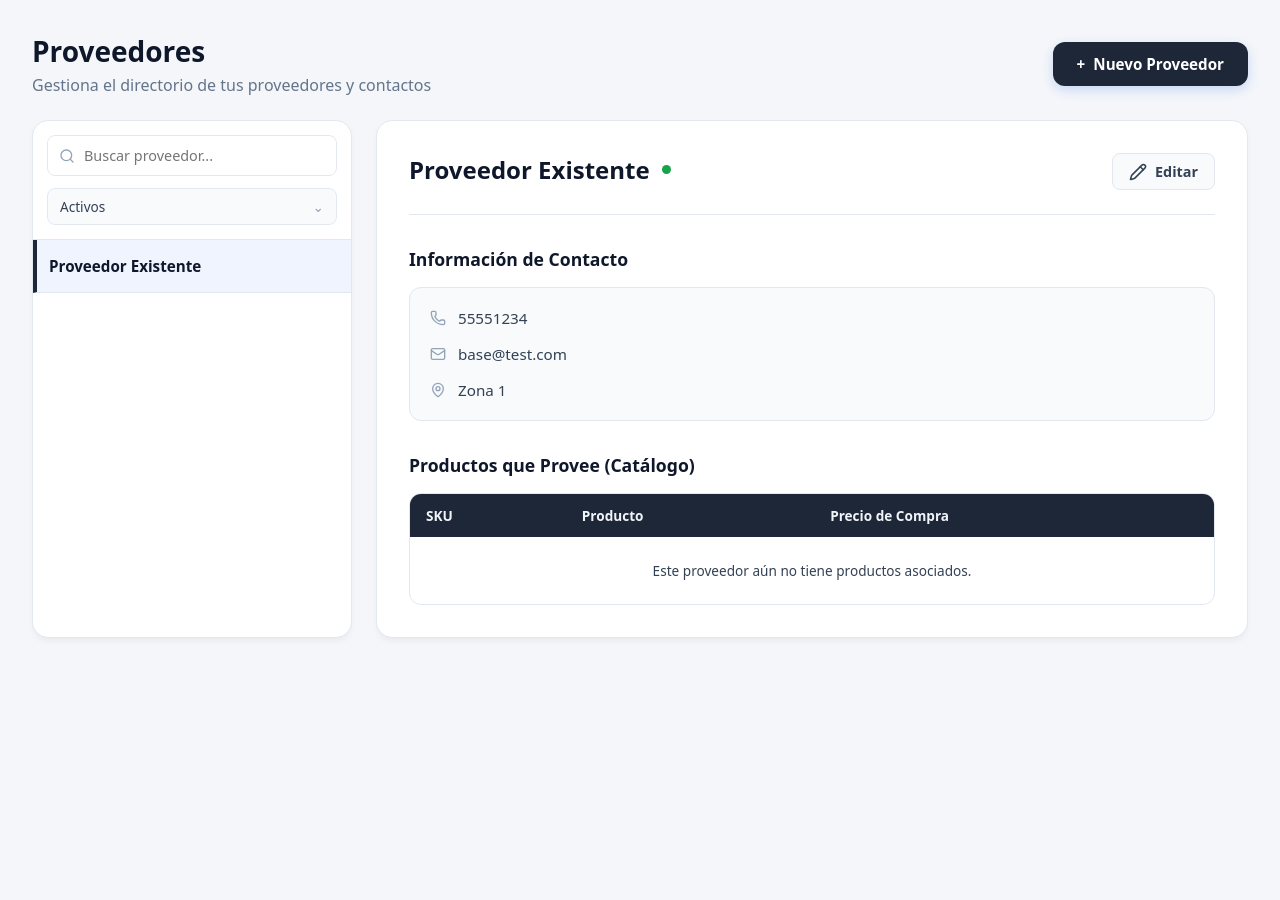
Test: Flujo comercial completo: Proveedores › creación: registra un proveedor nuevo y lo deja seleccionado en el detalle
Check: the heading with class "detail-name" reads "Proveedor Existente", box [409, 153, 650, 186]
Click the button with class "btn-add" at point(1150, 64), box [1053, 42, 1248, 86]
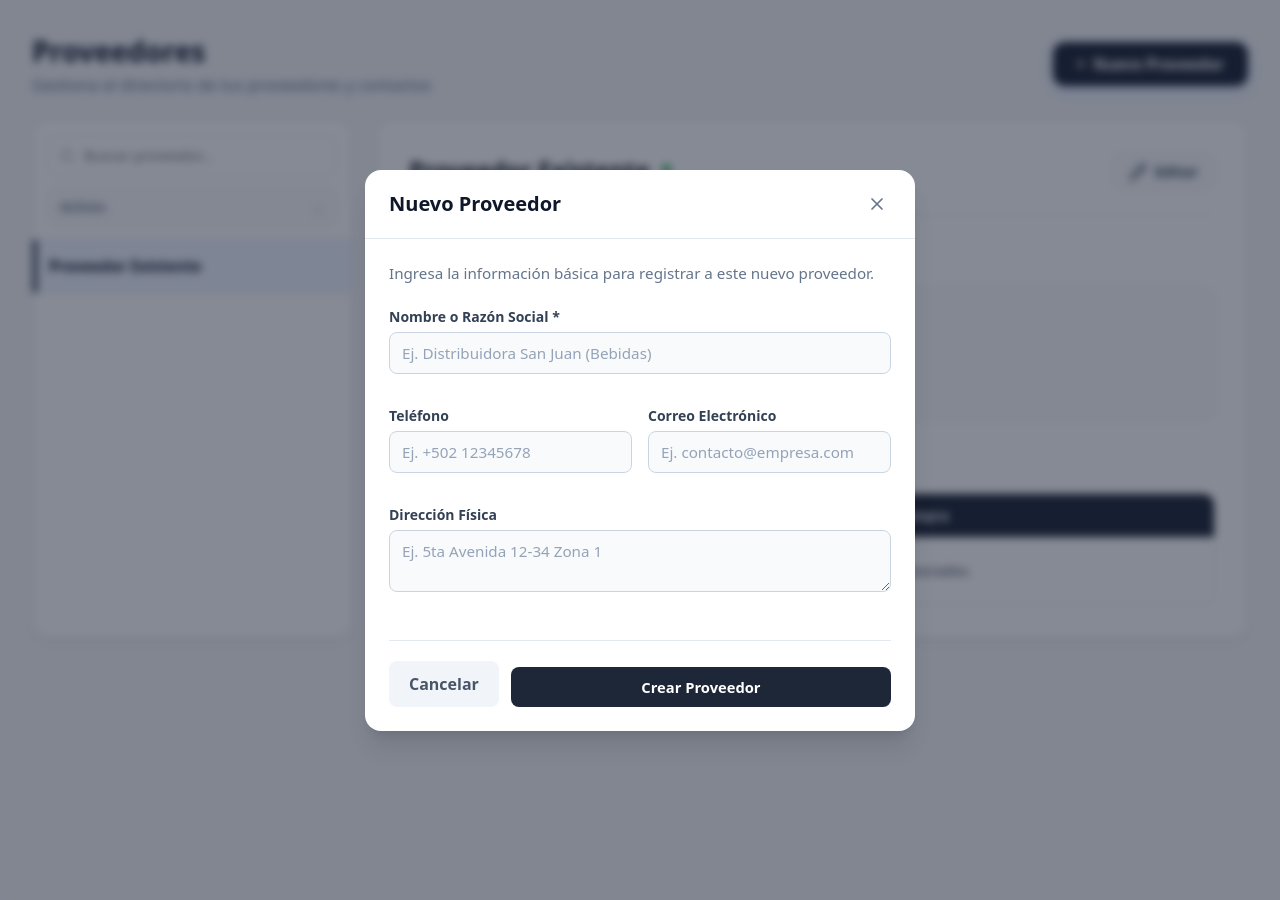
Type "Proveedor Nuevo" into the field with placeholder "Ej. Distribuidora San Juan (Bebidas)" at point(640, 352), box [389, 332, 891, 374]
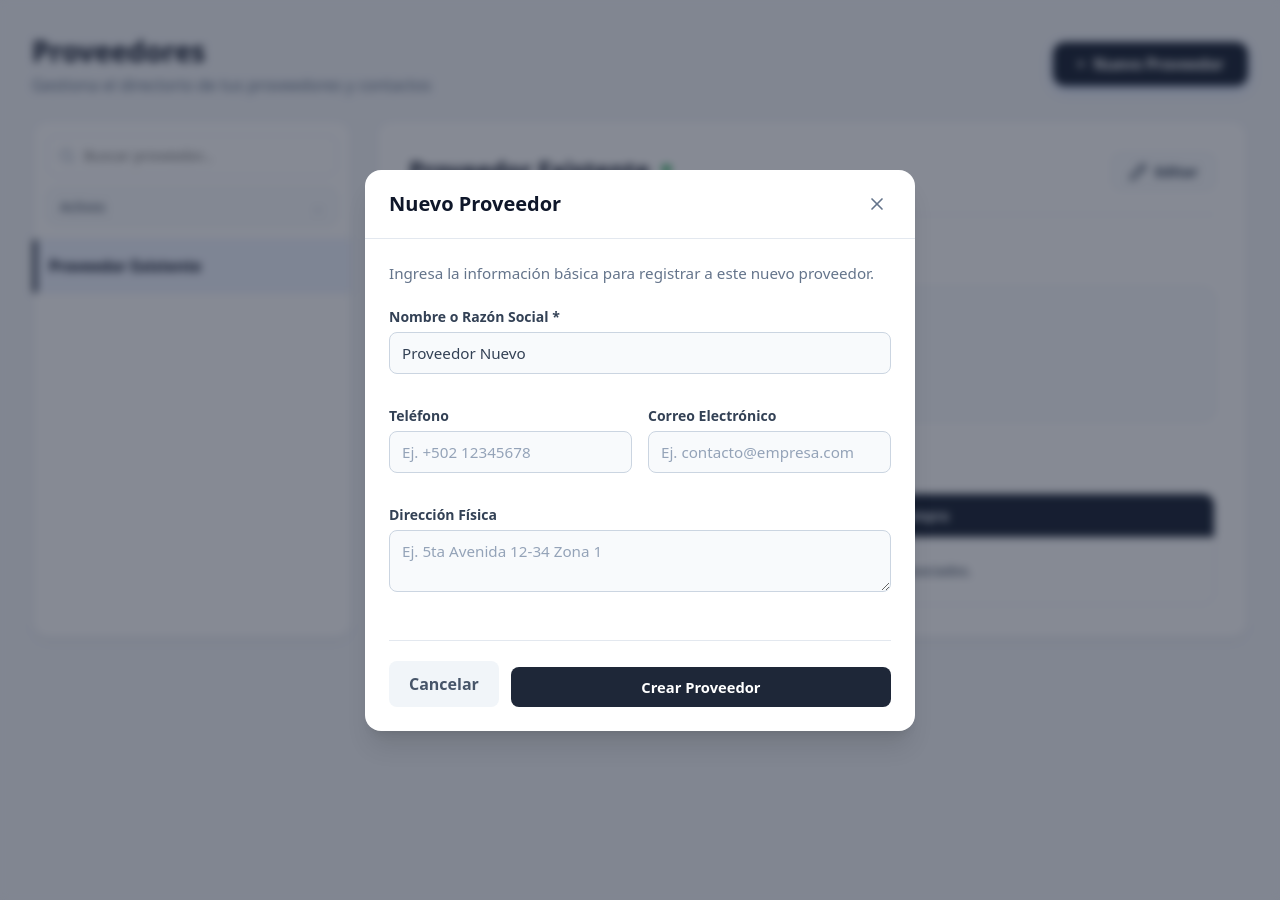
Submit the form, box [389, 306, 891, 706]
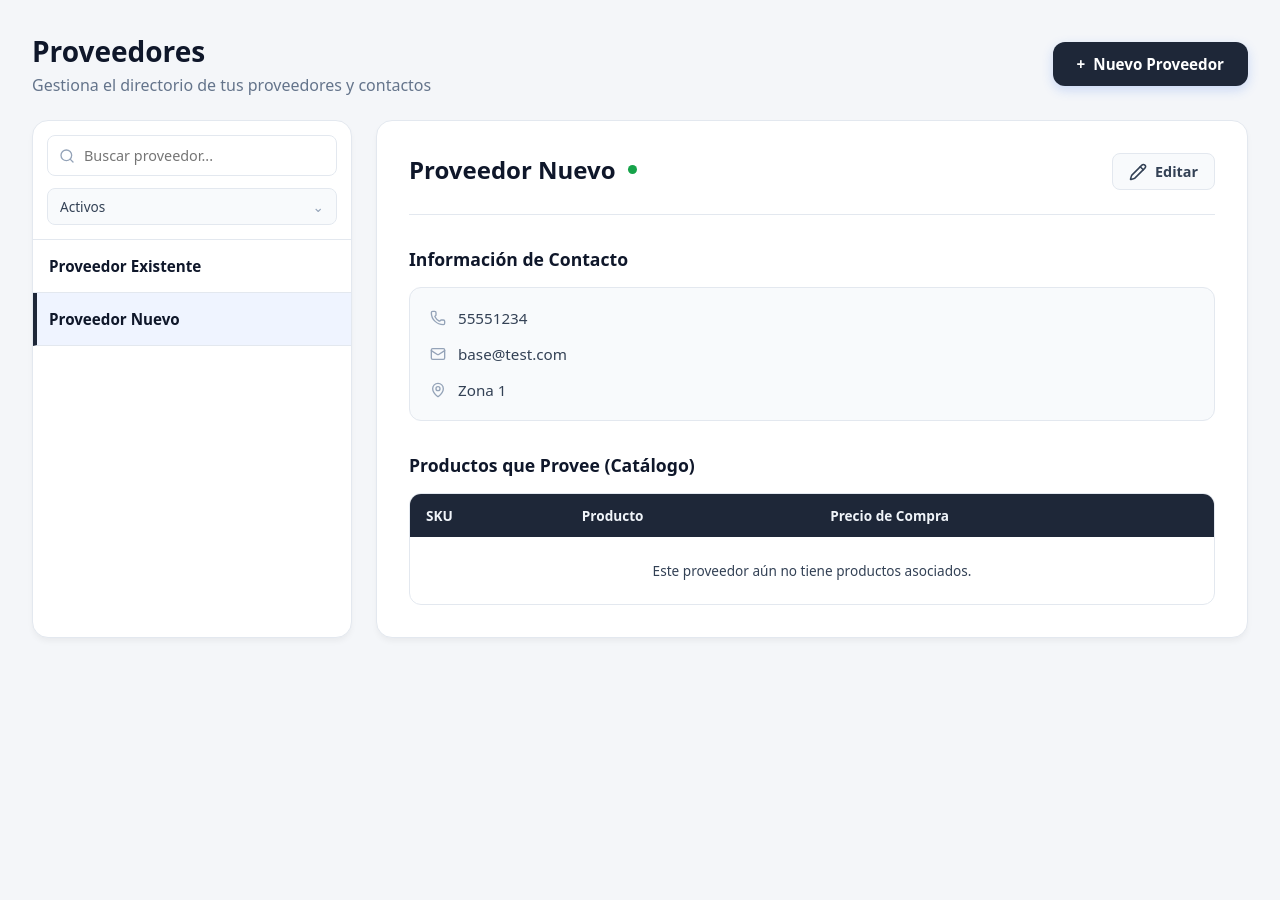
Check: the heading with class "detail-name" reads "Proveedor Nuevo", box [409, 153, 616, 186]
